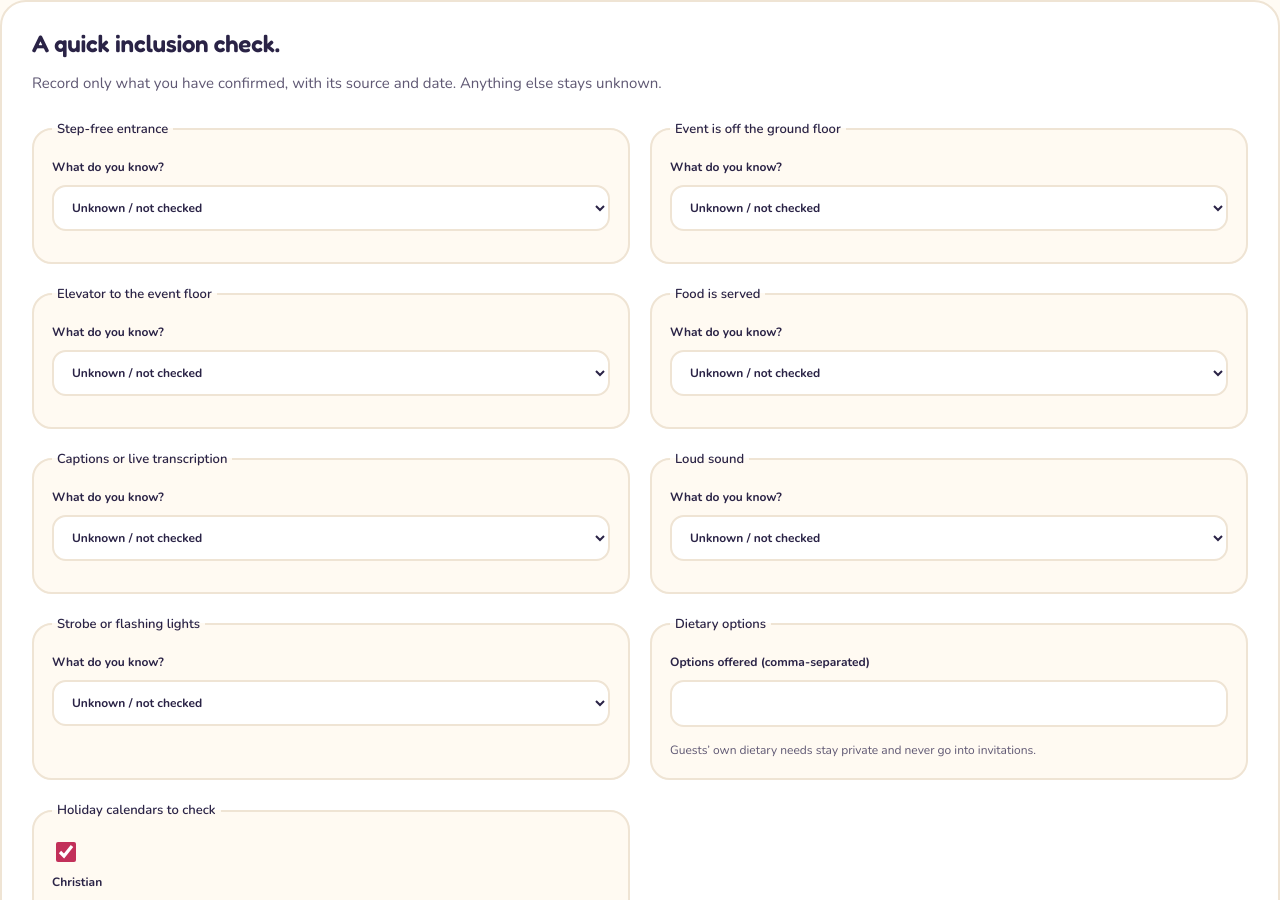
opts out of holiday checks when every calendar is unchecked
Click the checkbox at x=66, y=852, box x1=56 y1=842 x2=76 y2=862
(page scrolled)
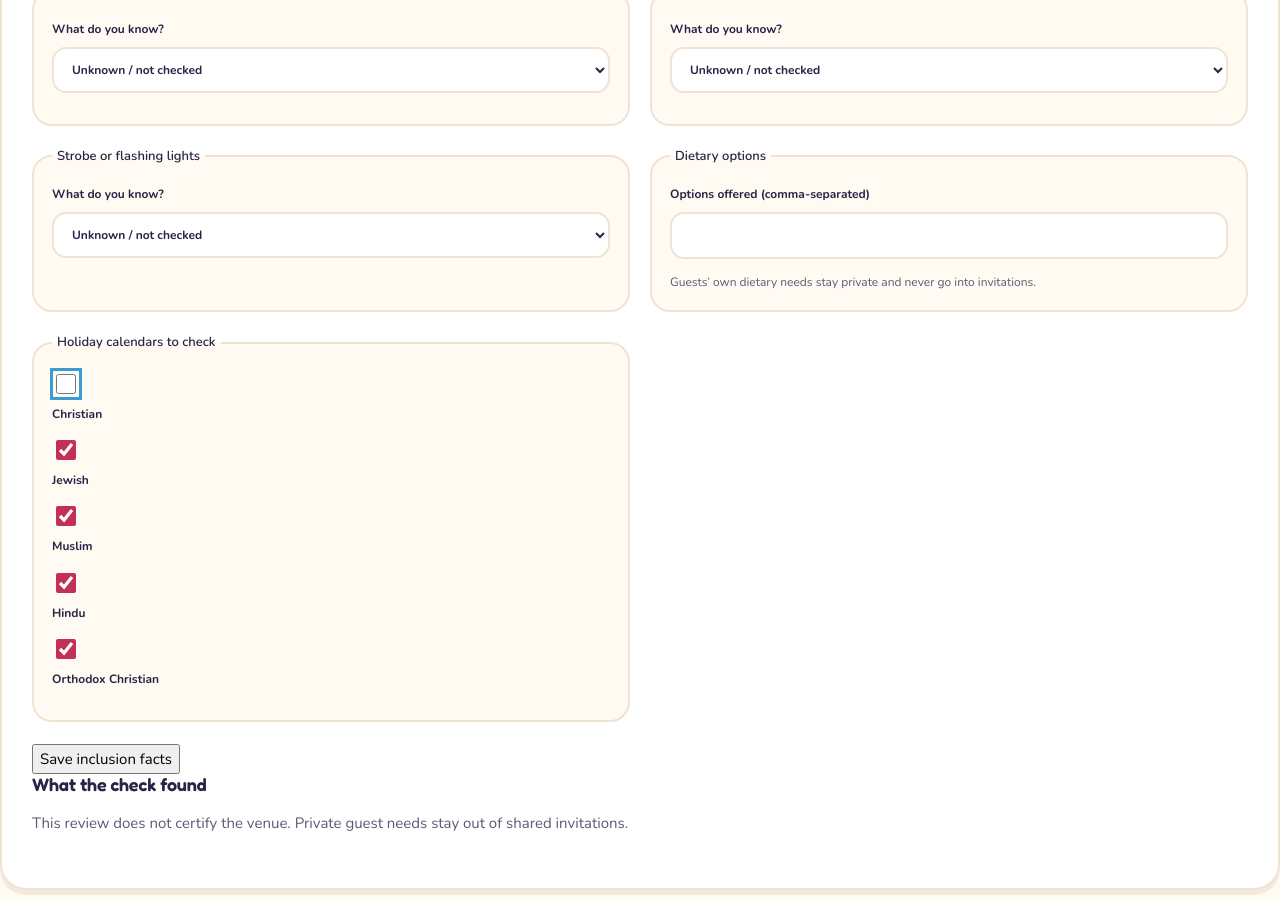
Click the checkbox labelled "Jewish" at x=66, y=450, box x1=56 y1=440 x2=76 y2=460
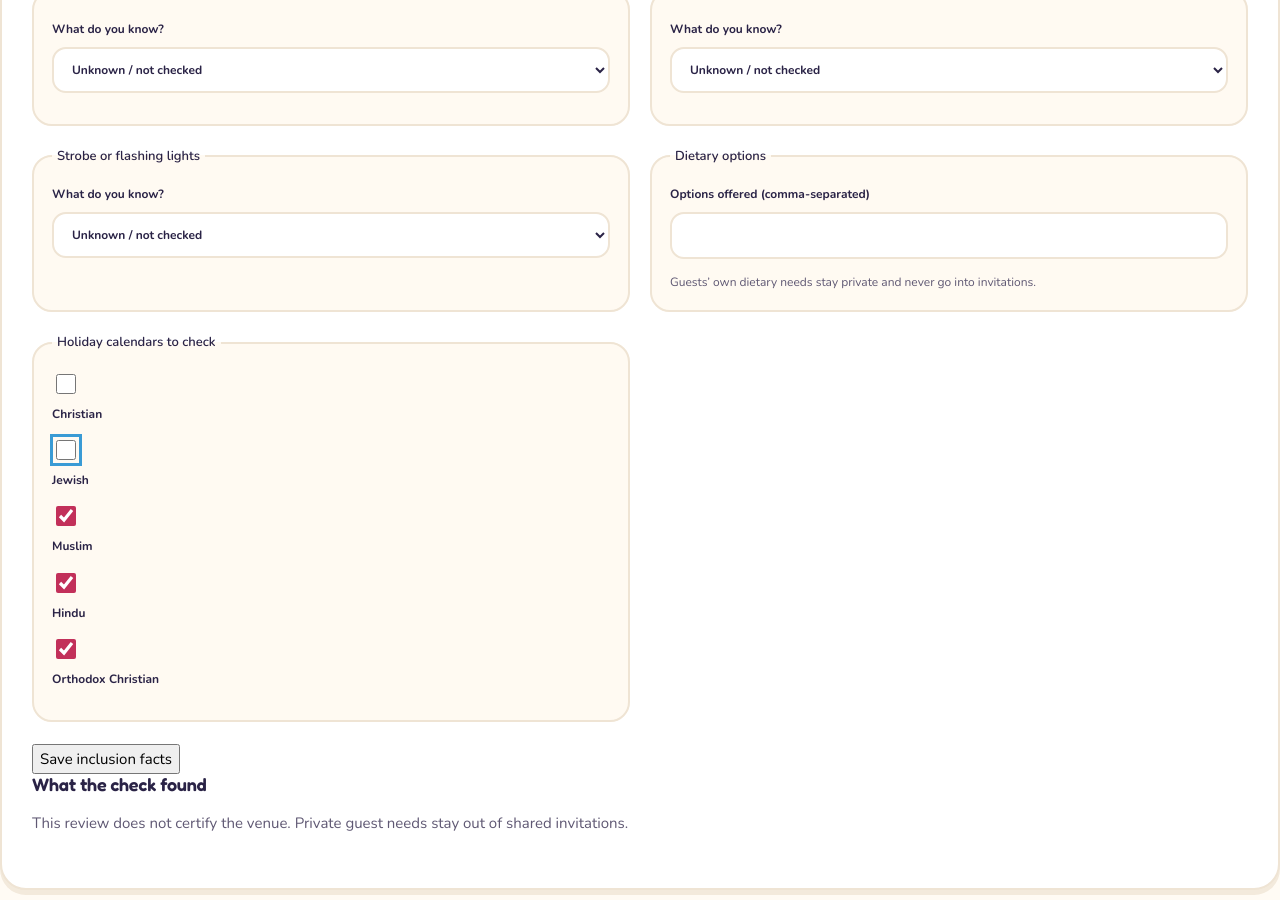
Click the checkbox labelled "Muslim" at x=66, y=516, box x1=56 y1=506 x2=76 y2=526
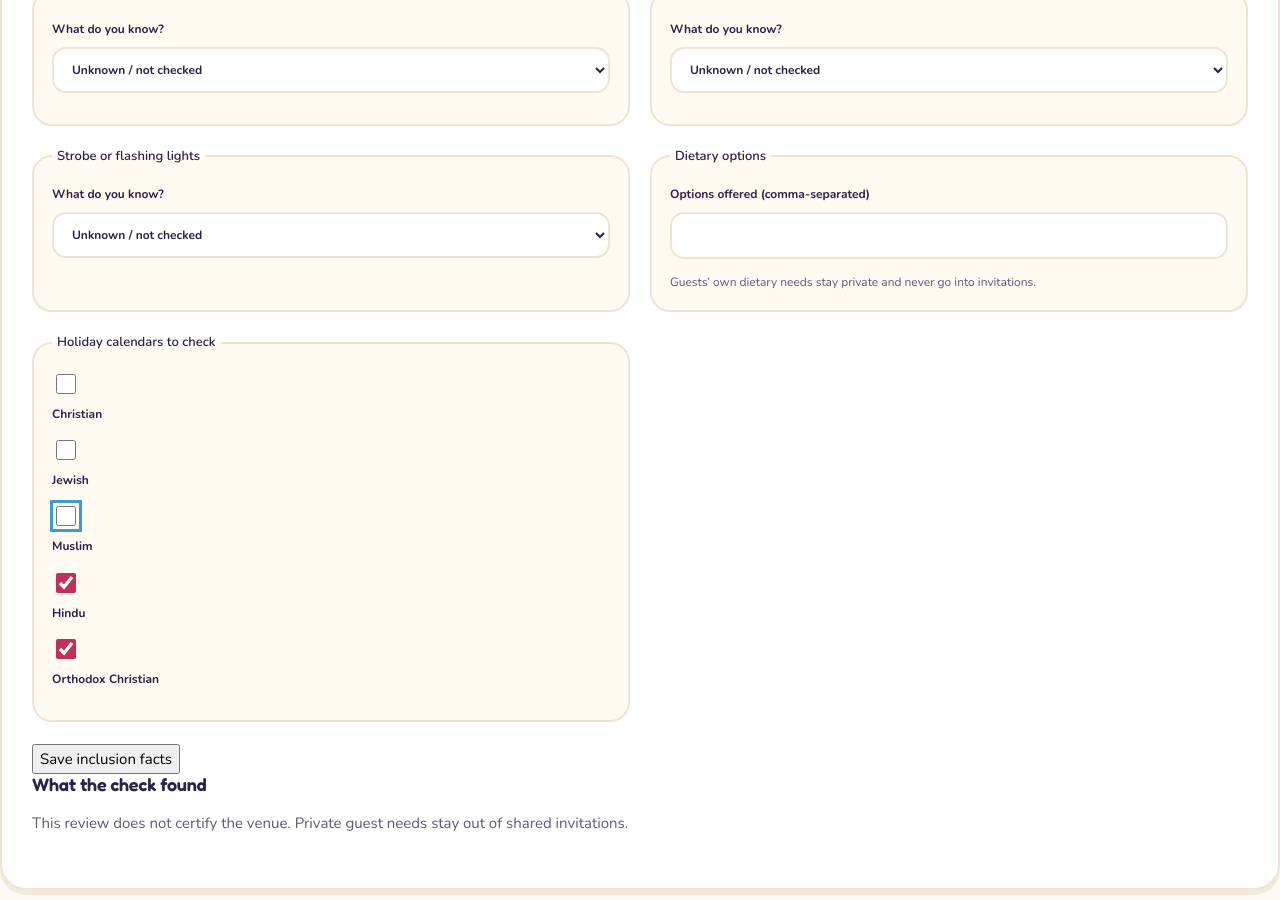
Click the checkbox labelled "Hindu" at x=66, y=583, box x1=56 y1=573 x2=76 y2=593
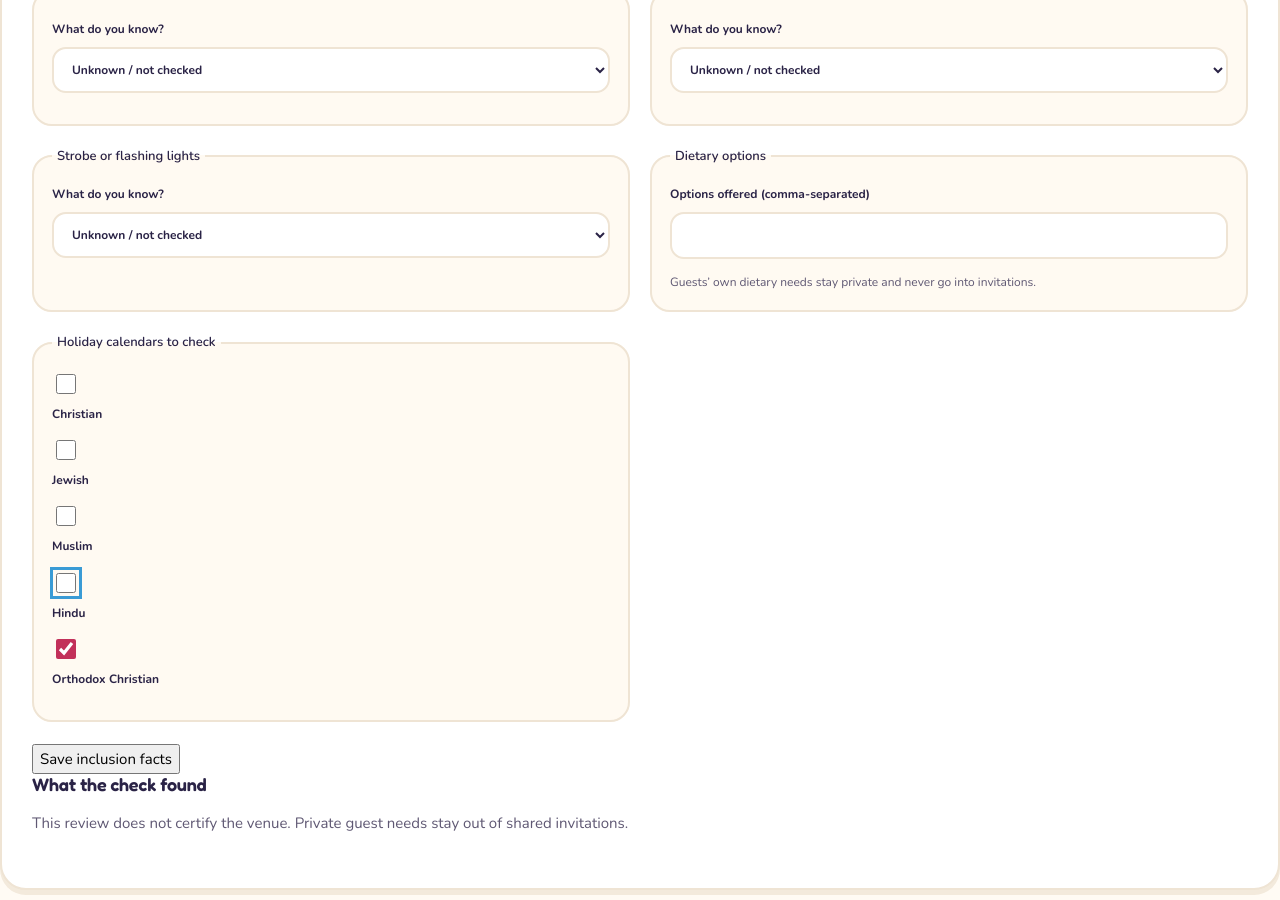
Click the checkbox labelled "Orthodox Christian" at x=66, y=649, box x1=56 y1=639 x2=76 y2=659
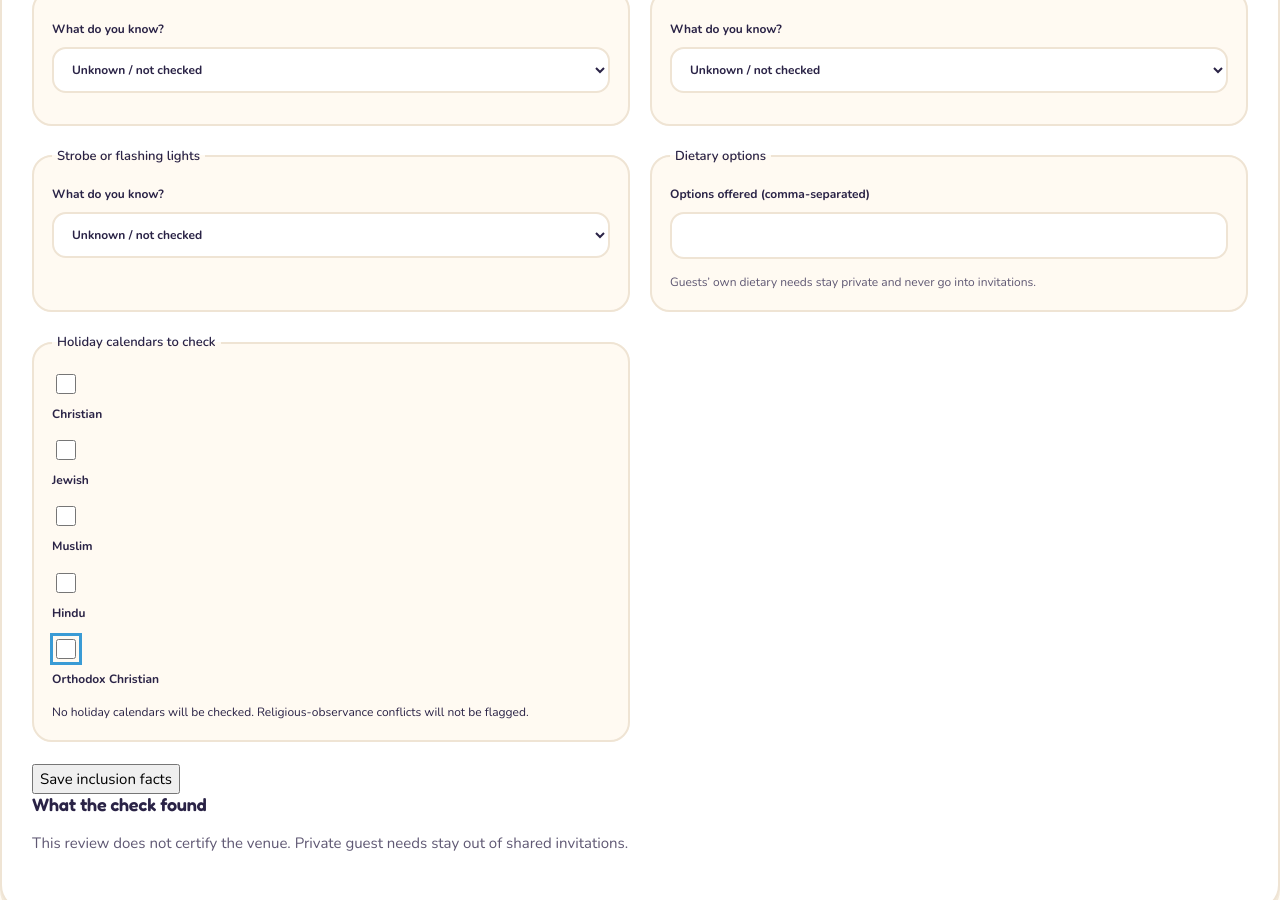
Now the text "No holiday calendars will be checked" is shown, box x1=52 y1=704 x2=529 y2=720
Click the button "Save inclusion facts" at x=106, y=779, box x1=32 y1=764 x2=180 y2=794
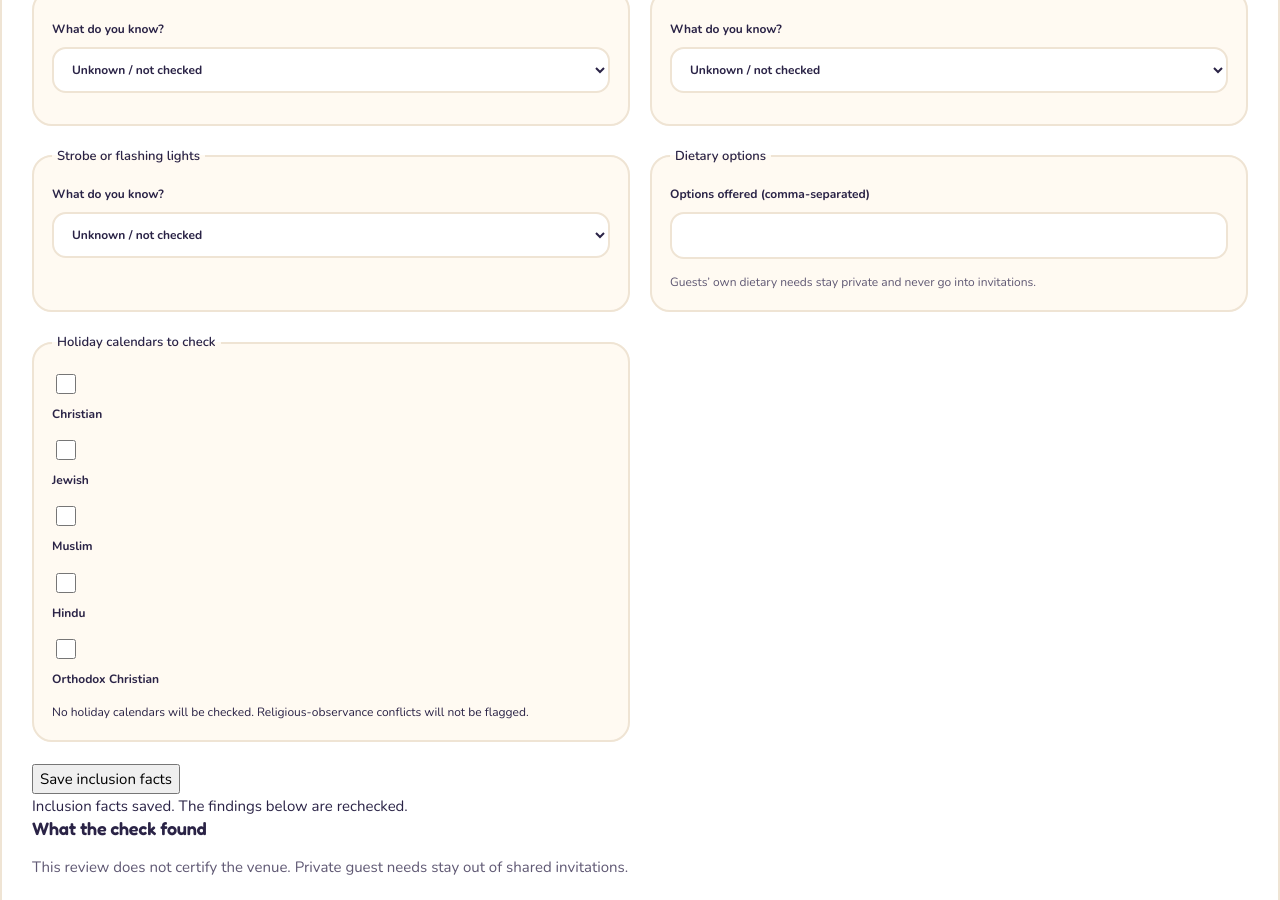
Now the text "Inclusion facts saved. The findings below are rechecked." is shown, box x1=32 y1=796 x2=408 y2=816
